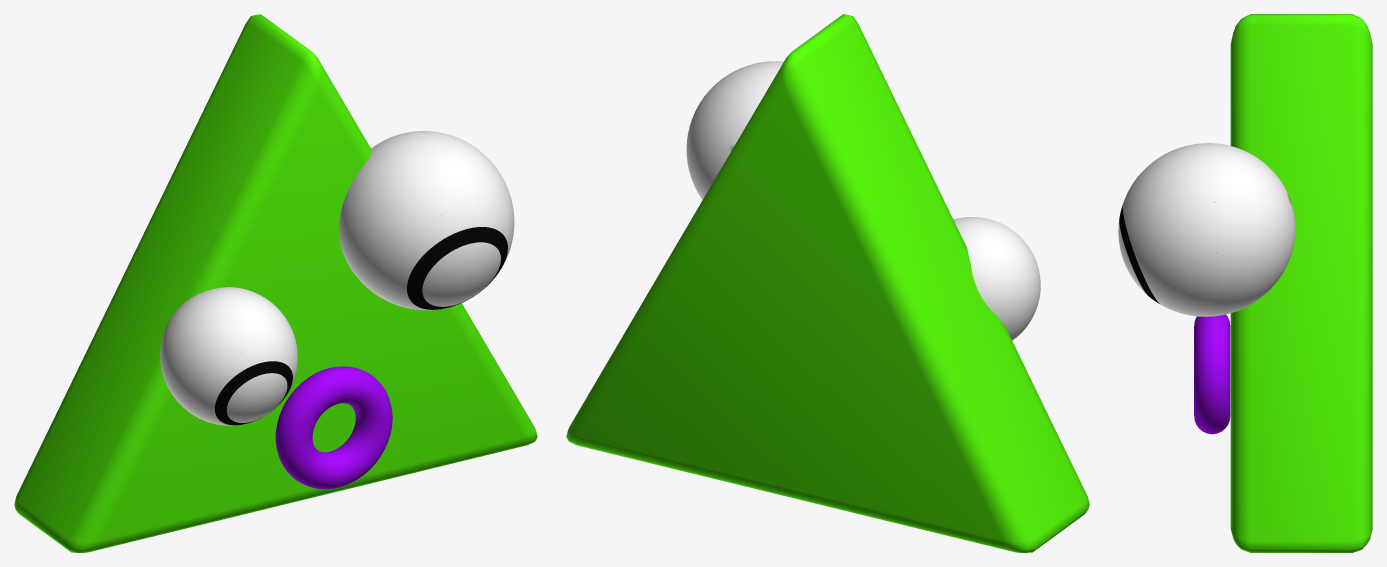
The model's file is TrianguloGloink.glb.
The picture shows the model from 3 angles, left to right: view 1: azimuth 30°, elevation 25°; view 2: azimuth 150°, elevation 25°; view 3: azimuth 270°, elevation 25°; orthographic projection. The views are drawn at different scales.
Visible parts, largest first — view 1: Object_16, Object_15, Object_14, Object_17; view 2: Object_16, Object_14, Object_15; view 3: Object_16, Object_15, Object_17.
Part boxes in pixels (left/top/right/bottom): Object_16: left=14, top=14, right=537, bottom=552; Object_15: left=339, top=131, right=514, bottom=310; Object_14: left=160, top=287, right=297, bottom=425; Object_17: left=275, top=366, right=392, bottom=489; Object_16: left=566, top=14, right=1089, bottom=552; Object_14: left=953, top=217, right=1040, bottom=340; Object_15: left=686, top=61, right=783, bottom=199; Object_16: left=1230, top=14, right=1372, bottom=552; Object_15: left=1118, top=143, right=1295, bottom=316; Object_17: left=1194, top=314, right=1230, bottom=434.
Bounding box in the file's own units: 0.2872 × 0.2597 × 0.1381.
4 materials, 4 textured.
